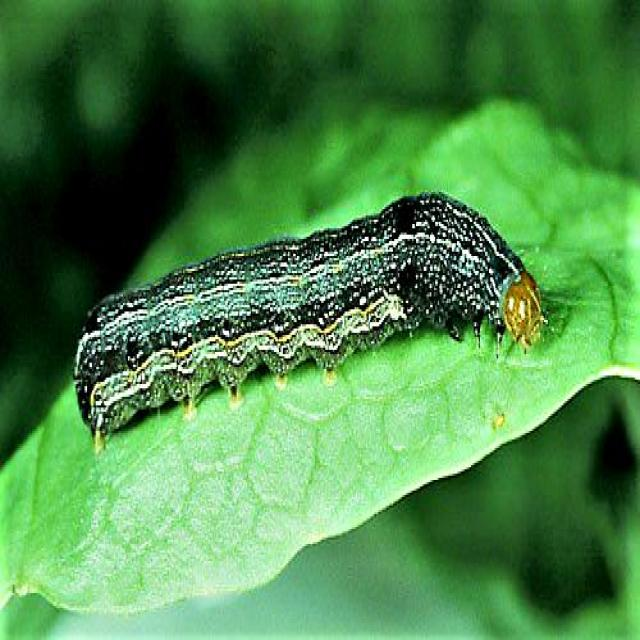Armyworm: (40, 159, 581, 451)
